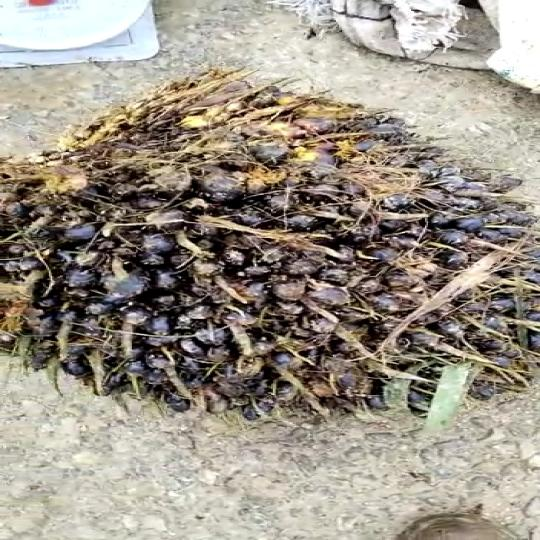mentah: (0, 78, 540, 426)
